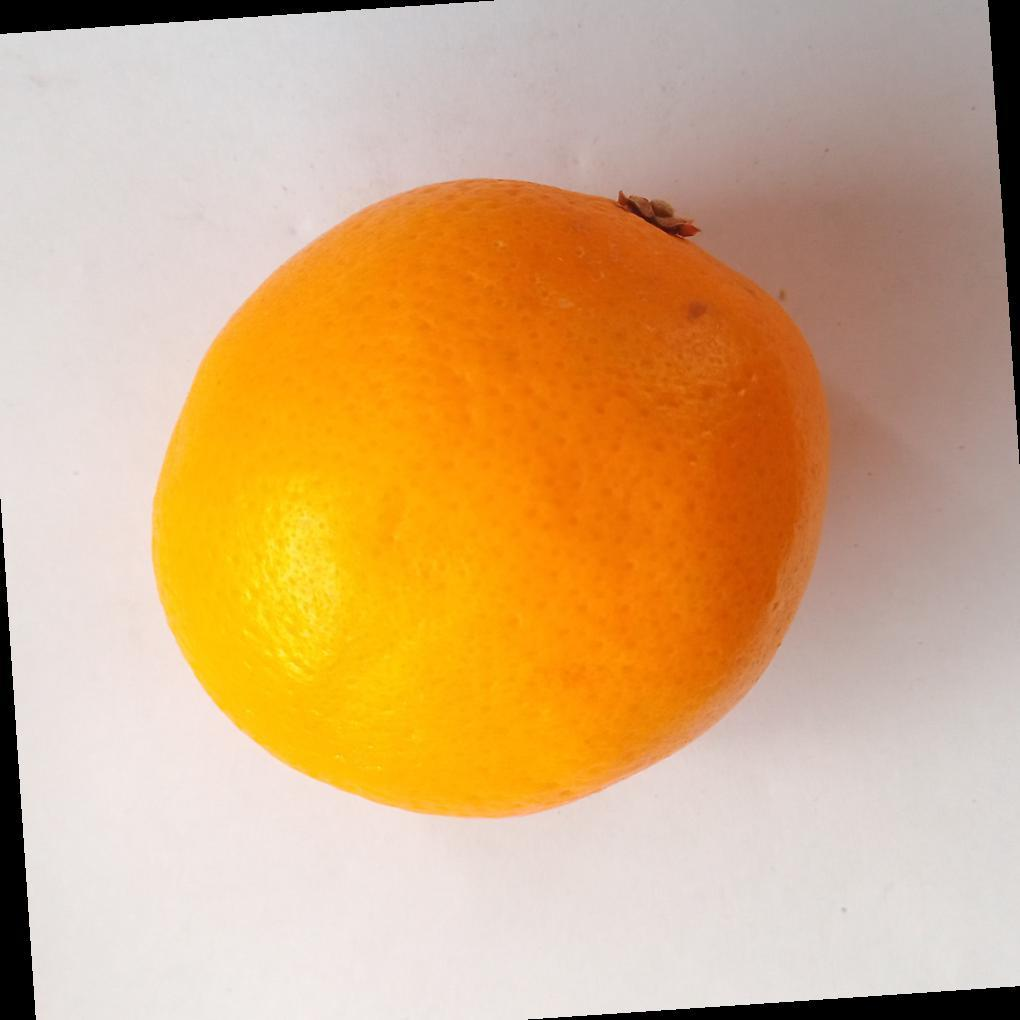FreshGuava: (148, 178, 834, 824)
